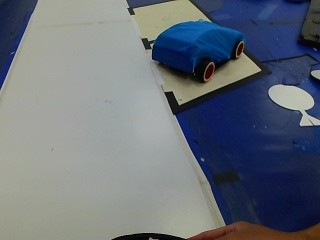car: (148, 16, 254, 85)
